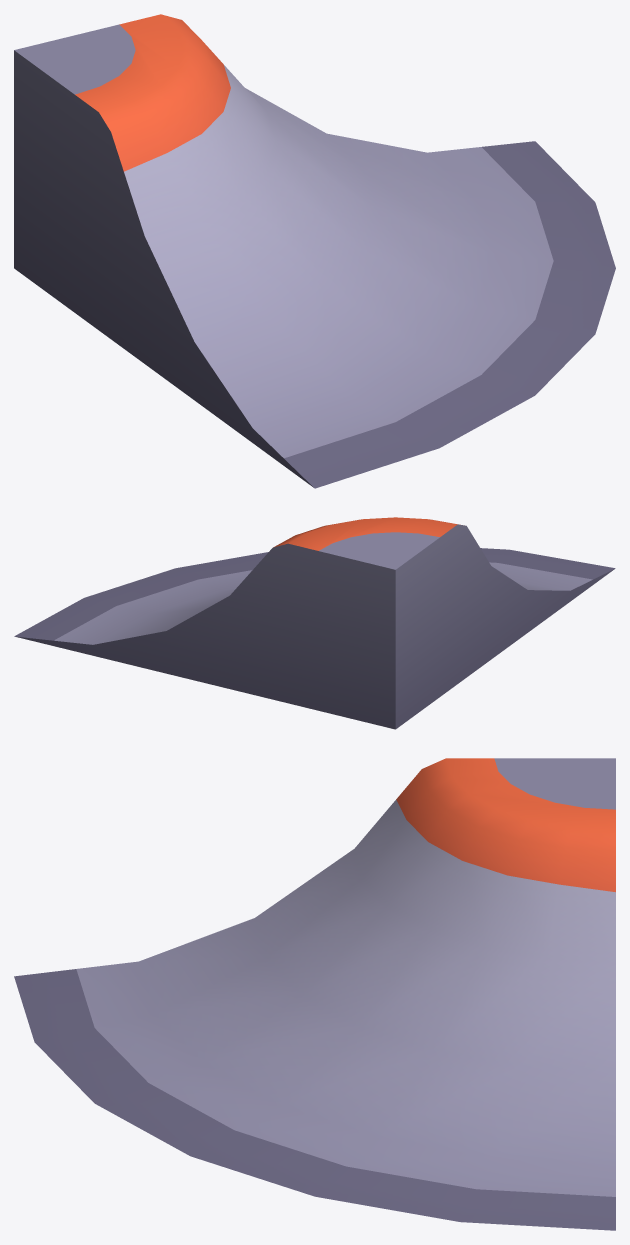
The model's file is bowl-corner-outer-low.glb.
The picture shows the model from 3 angles, top to bottom: view 1: azimuth 30°, elevation 25°; view 2: azimuth 150°, elevation 25°; view 3: azimuth 270°, elevation 25°; orthographic projection. The views are drawn at different scales.
Visible parts, largest first — view 1: bowl-corner-outer-low; view 2: bowl-corner-outer-low; view 3: bowl-corner-outer-low.
Part boxes in pixels (left/top/right/bottom): bowl-corner-outer-low: left=14, top=14, right=615, bottom=488; bowl-corner-outer-low: left=14, top=517, right=615, bottom=729; bowl-corner-outer-low: left=14, top=758, right=615, bottom=1230.
Size of the model in its own units: 1 by 0.3999 by 1.
1 material, 1 textured.
